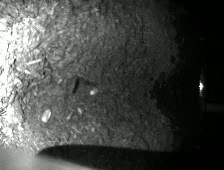corn: (41, 110, 51, 122), (89, 87, 98, 97), (66, 111, 73, 121), (78, 108, 83, 116)
